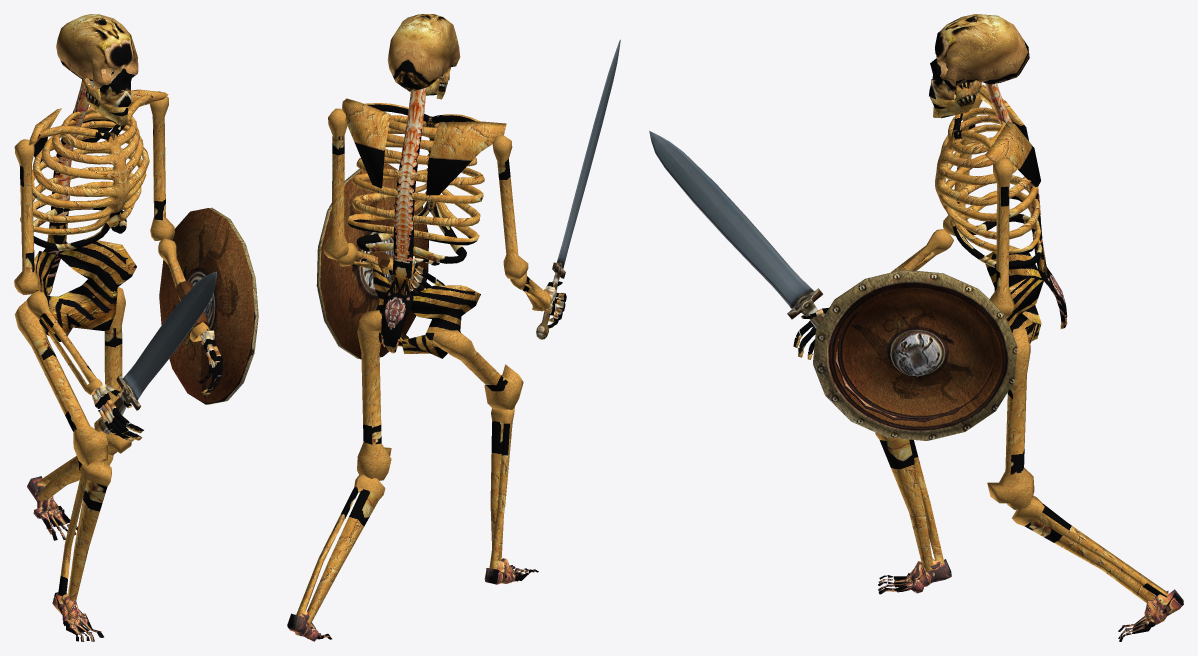
The model's file is Skeleton_000022.obj.
3 views of the same model, side by side, from view 1: azimuth 30°, elevation 25°; view 2: azimuth 150°, elevation 25°; view 3: azimuth 270°, elevation 25° (orthographic). The views are drawn at different scales.
Parts seen in each view (by area): view 1: Costillar, Shield_Shield.001, Coxis, Femur, Skull, Tibia, Humero, Sword, Radio, Feet, Hands, Omoplato (+1 smaller); view 2: Costillar, Shield_Shield.001, Femur, Tibia, Omoplato, Humero, Skull, Coxis, Sword, Radio, Feet, Hands; view 3: Shield_Shield.001, Costillar, Tibia, Sword, Skull, Femur, Humero, Feet, Coxis, Omoplato, Mandibula, Radio.
Boxes of the visible parts, x1,y1,x2,y2 form: Costillar: (20, 80, 153, 295); Shield_Shield.001: (159, 207, 258, 404); Coxis: (34, 240, 136, 341); Femur: (14, 287, 131, 466); Skull: (56, 14, 138, 107); Tibia: (37, 454, 113, 600); Humero: (14, 91, 174, 294); Sword: (99, 271, 216, 433); Radio: (27, 238, 209, 394); Feet: (27, 476, 103, 641); Hands: (92, 329, 222, 441); Omoplato: (29, 89, 168, 162); Costillar: (347, 87, 484, 353); Shield_Shield.001: (316, 163, 428, 359); Femur: (357, 310, 523, 480); Tibia: (296, 407, 514, 625); Omoplato: (341, 98, 506, 195); Humero: (323, 108, 528, 279); Skull: (387, 14, 460, 91); Coxis: (372, 263, 480, 358); Sword: (536, 39, 620, 339); Radio: (338, 242, 550, 311); Feet: (287, 558, 538, 641); Hands: (410, 256, 566, 328); Shield_Shield.001: (813, 269, 1017, 440); Costillar: (935, 83, 1067, 329); Tibia: (875, 432, 1168, 602); Sword: (649, 131, 823, 328); Skull: (929, 14, 1029, 100); Femur: (987, 327, 1034, 509); Humero: (943, 96, 1014, 318); Feet: (878, 558, 1183, 641); Coxis: (985, 245, 1043, 343); Omoplato: (969, 82, 1040, 187); Mandibula: (930, 80, 981, 118); Radio: (891, 229, 953, 272).
Size of the model in its own units: 2.83 by 8.33 by 6.69.
5 materials, 5 textured.
